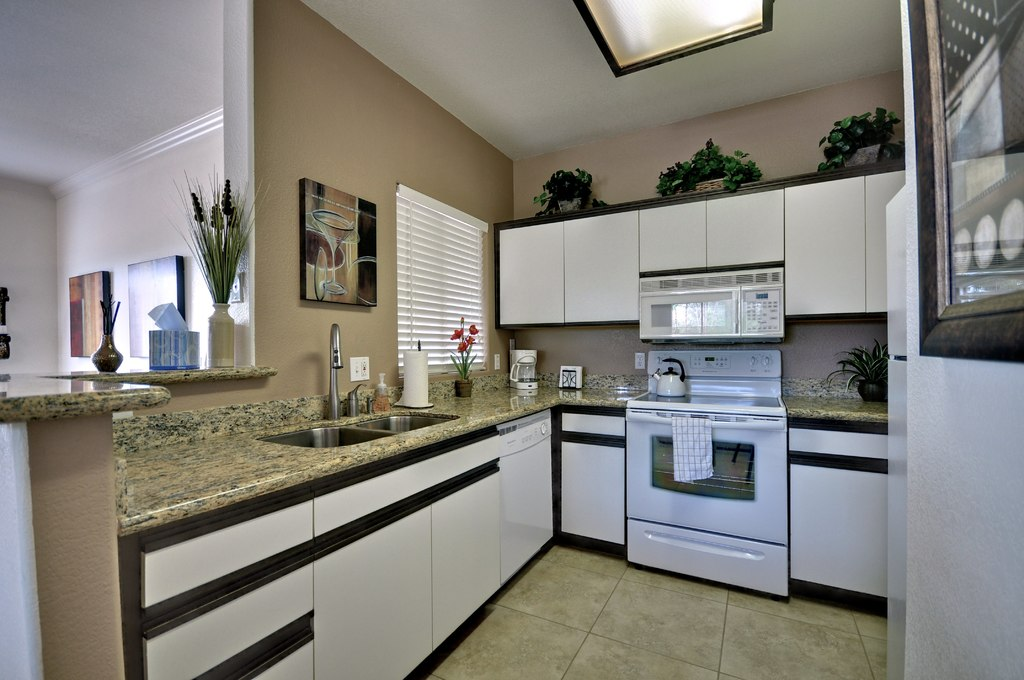cabinet door: (322, 544, 434, 668), (799, 465, 894, 595), (786, 184, 870, 305), (145, 584, 311, 643), (137, 514, 317, 563), (438, 488, 504, 608), (494, 225, 566, 322), (563, 437, 626, 543), (569, 221, 638, 314), (865, 177, 906, 303), (707, 206, 786, 262), (311, 475, 428, 512), (638, 212, 712, 265), (223, 638, 314, 680), (790, 431, 891, 465), (425, 439, 500, 479), (559, 415, 627, 437)
handle: (142, 569, 311, 613), (324, 498, 428, 550), (206, 630, 312, 680), (646, 527, 759, 570), (634, 408, 780, 437), (796, 442, 897, 481), (433, 463, 504, 502), (569, 426, 623, 451)
